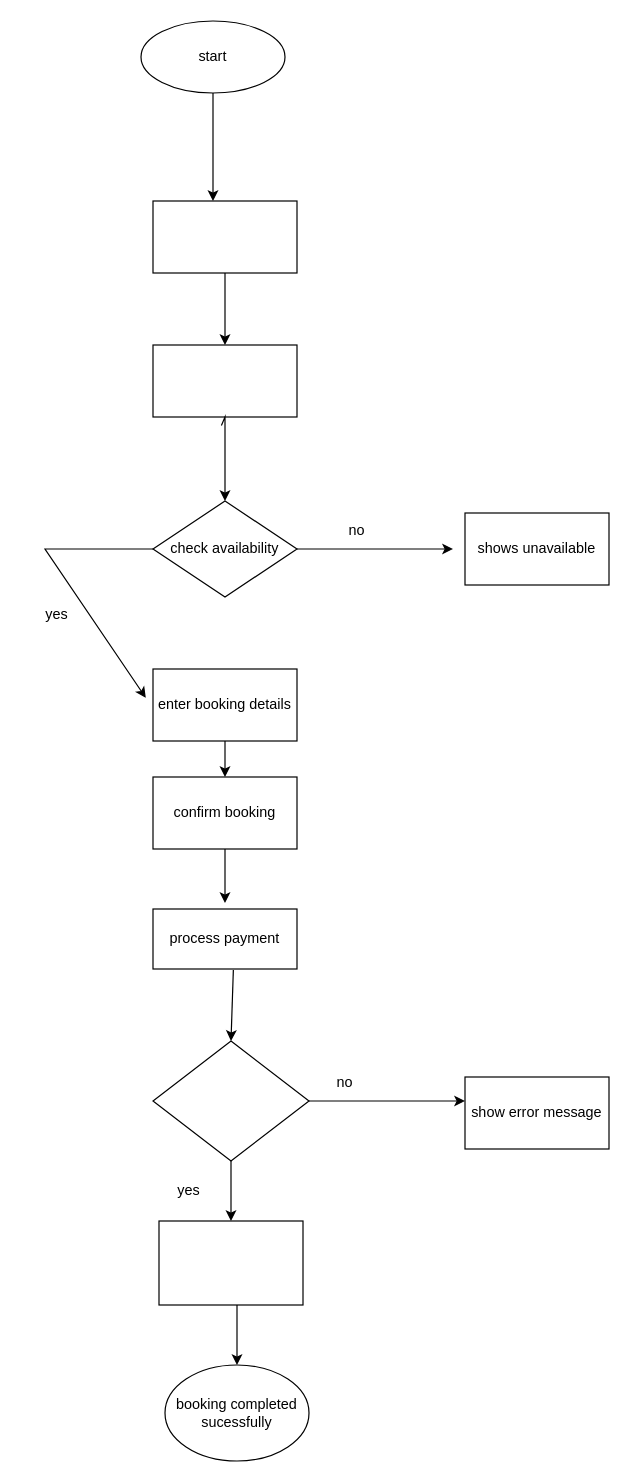
Image size: 630x1482. Some labels were removed from this diagram. The shapes that lost their labels are listed below. From the top down, each one's centre as x and y in pixels, then its label:
At (x=224, y=236): "user searches".
At (x=224, y=380): "checks availability".
At (x=230, y=1100): "payment succesful".
At (x=230, y=1262): "send confirmation".
